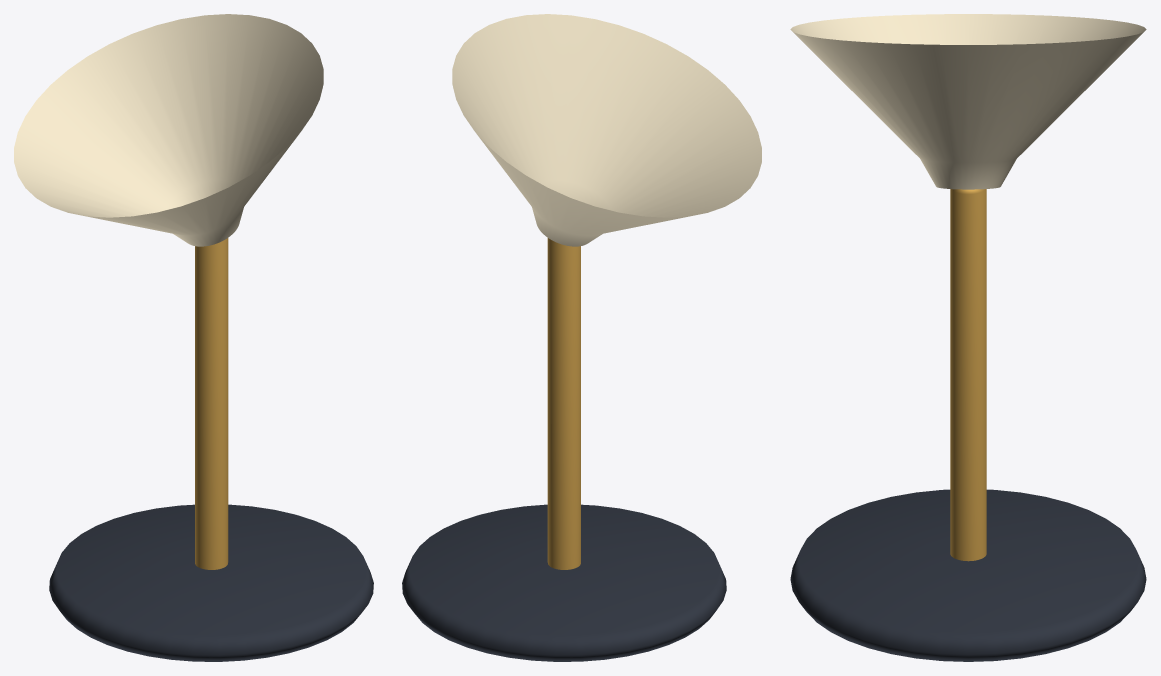
3 renders of one model, left to right at view 1: azimuth 30°, elevation 25°; view 2: azimuth 150°, elevation 25°; view 3: azimuth 270°, elevation 25°, orthographic. The views are drawn at different scales.
Visible parts, largest first — view 1: Shade, Base, Pole; view 2: Shade, Base, Pole; view 3: Base, Shade, Pole.
Part boxes in pixels (x1,y1,x2,y2): Shade: (14, 14, 323, 246); Base: (49, 504, 373, 661); Pole: (195, 238, 228, 569); Shade: (452, 14, 761, 246); Base: (402, 504, 726, 661); Pole: (547, 238, 580, 569); Base: (790, 489, 1146, 661); Shade: (790, 14, 1146, 189); Pole: (950, 189, 986, 561).
Bounding box in the file's own units: 0.9869 × 1.62 × 0.88.
